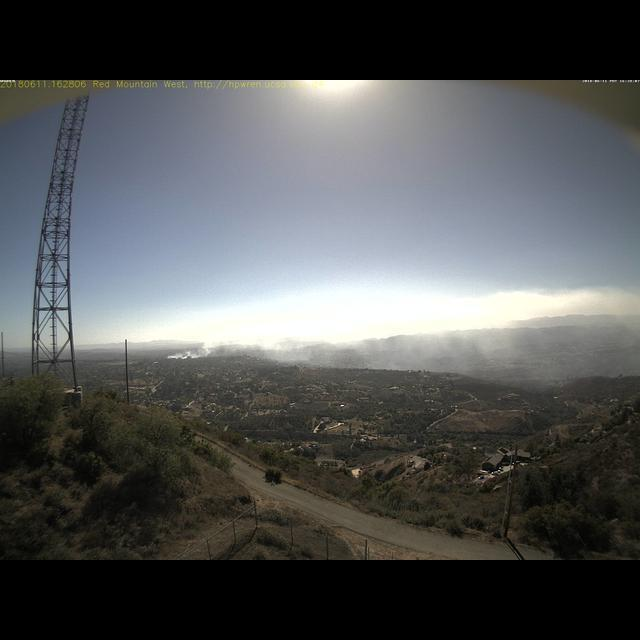Smoke: (164, 309, 415, 366)
